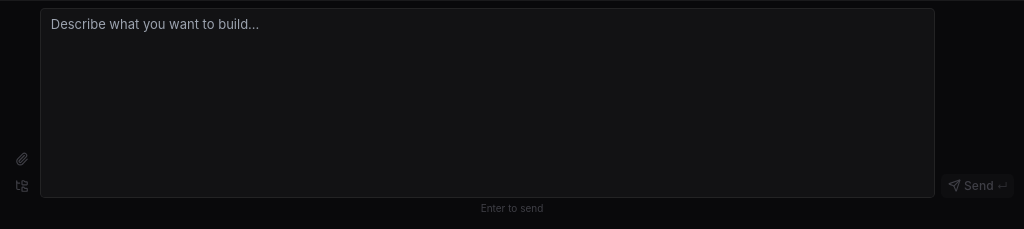
Test: SpecChatInput › enables send button when input has text
In the text box with placeholder "Describe what you want to build...": (487, 103) 40,8 -> 935,198, type "Build a feature"
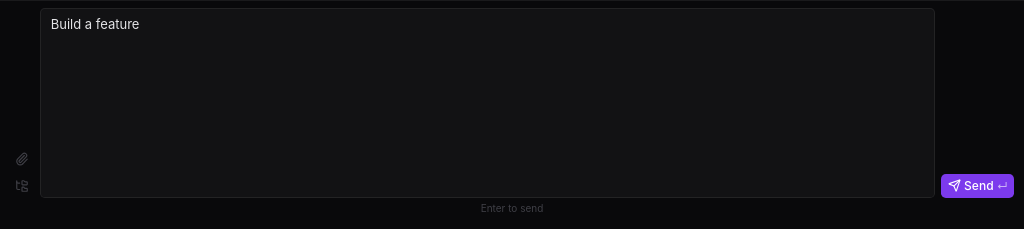
Check: the button titled "Send (Enter)" is enabled, box 941,174 -> 1014,198
